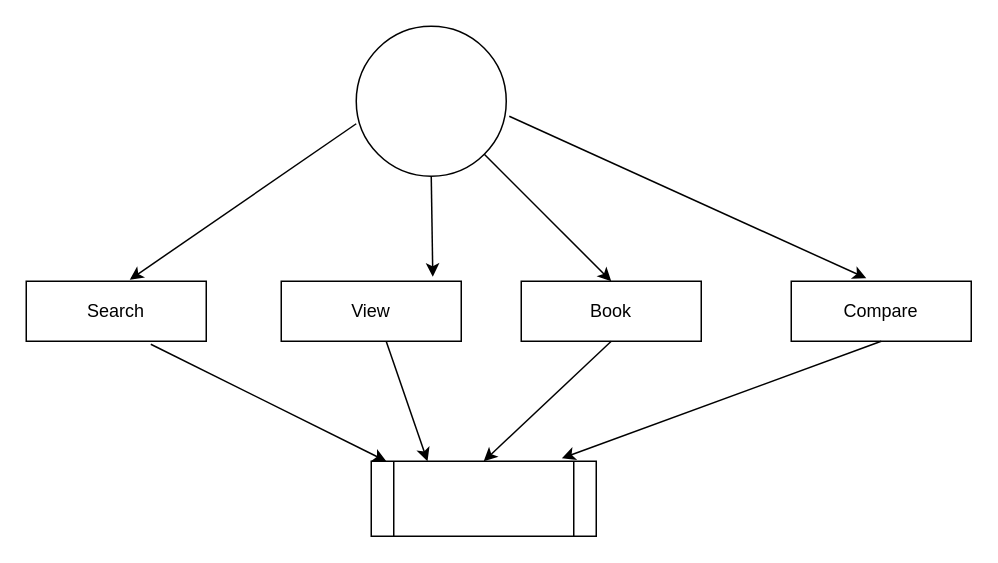
Image size: 998x563. Some labels were removed from this diagram. Here are the shapes that lost their labels. From the top down, the box of each, then its label:
(355, 25, 506, 176): Hotel
(370, 460, 596, 536): Hotel Master
